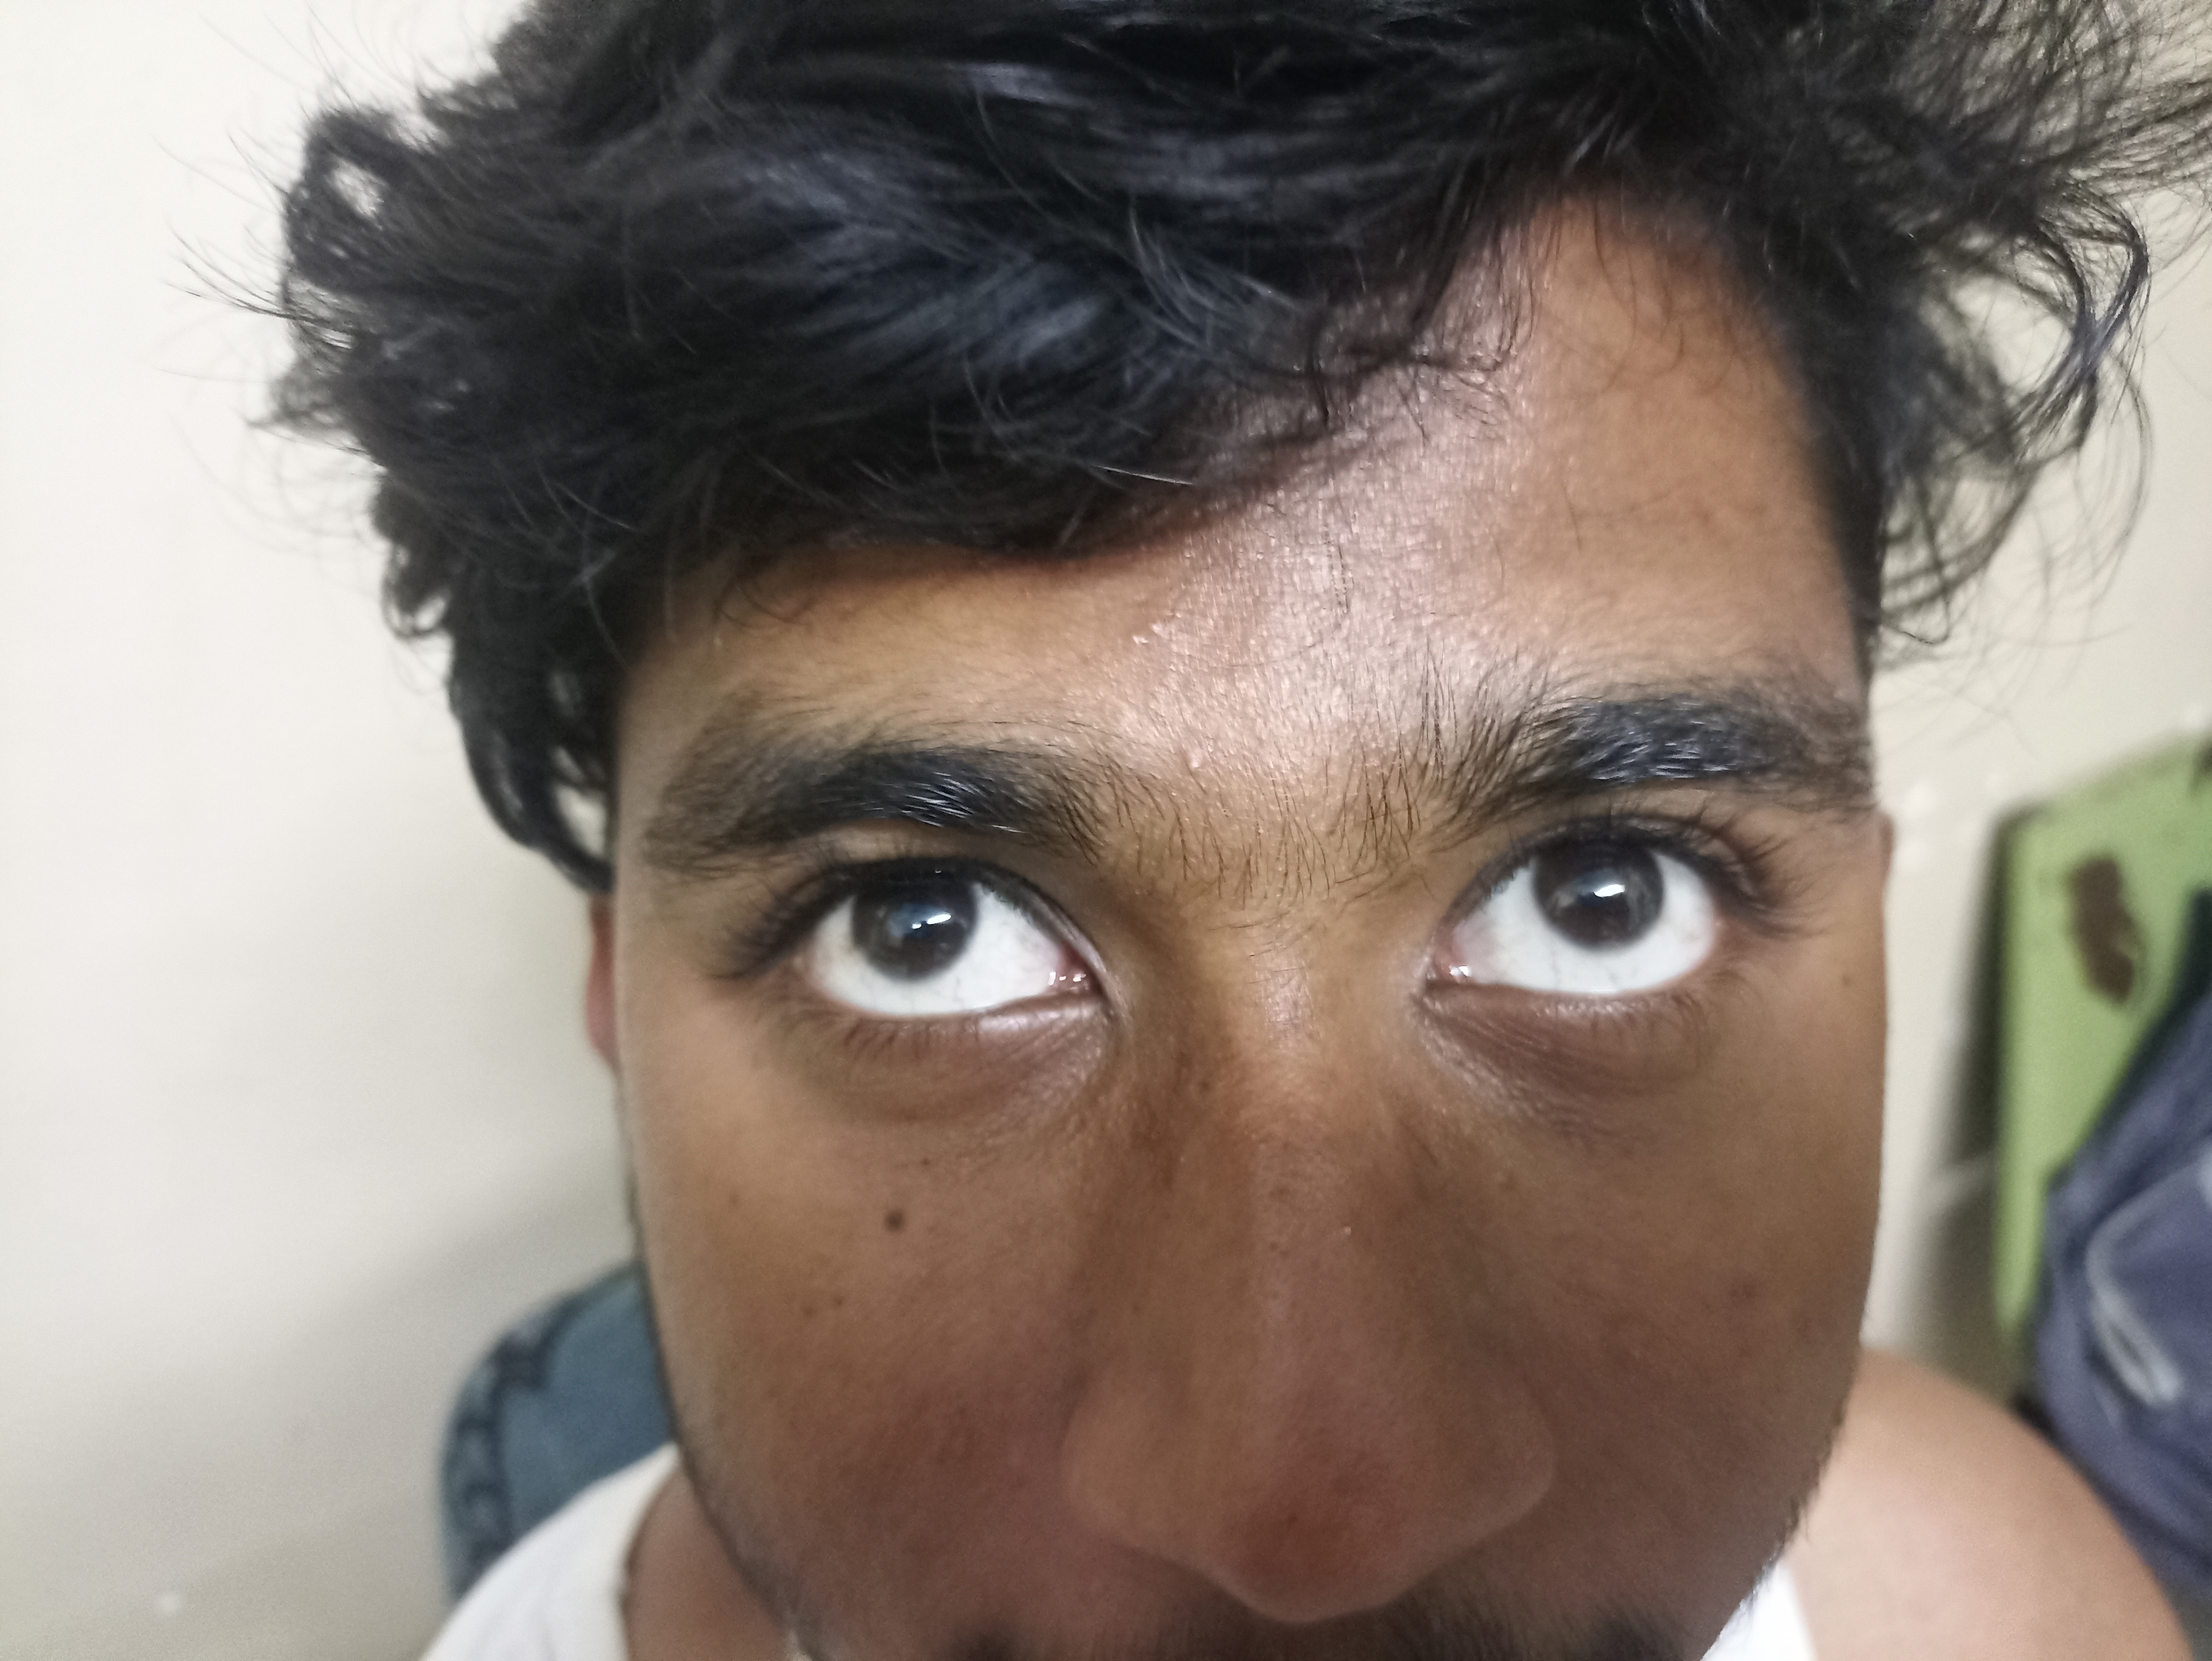EYE UP: (565, 656, 1216, 1186), (1314, 654, 1889, 1207)
